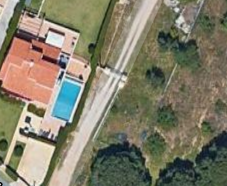pool: (61, 82, 72, 120)
